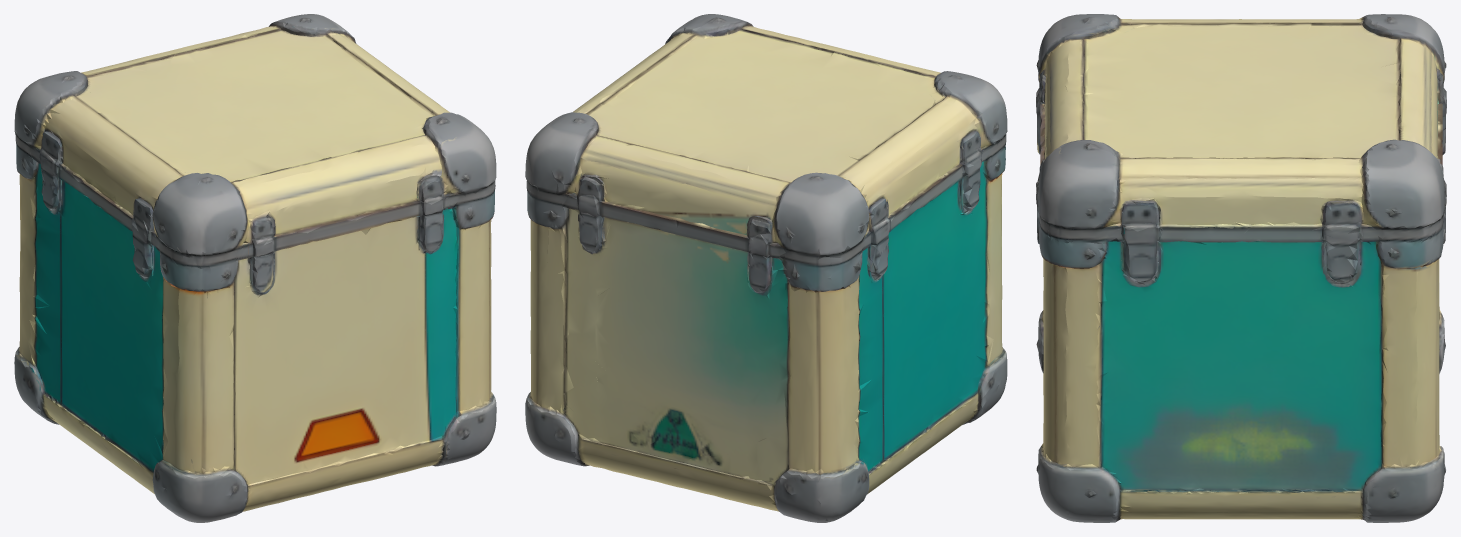
Rendered from Supply_Crate.glb.
3 views of the same model, side by side, from view 1: azimuth 30°, elevation 25°; view 2: azimuth 150°, elevation 25°; view 3: azimuth 270°, elevation 25° (orthographic). The views are drawn at different scales.
Visible parts, largest first — view 1: SupplyCrate; view 2: SupplyCrate; view 3: SupplyCrate.
Part boxes in pixels (box(x1,y1,x2,y2)): SupplyCrate: box(14, 14, 496, 522); SupplyCrate: box(525, 14, 1007, 522); SupplyCrate: box(1036, 14, 1446, 522).
Size of the model in its own units: 1.9 by 1.9 by 1.9.
Materials: 1 (1 with a texture image).
